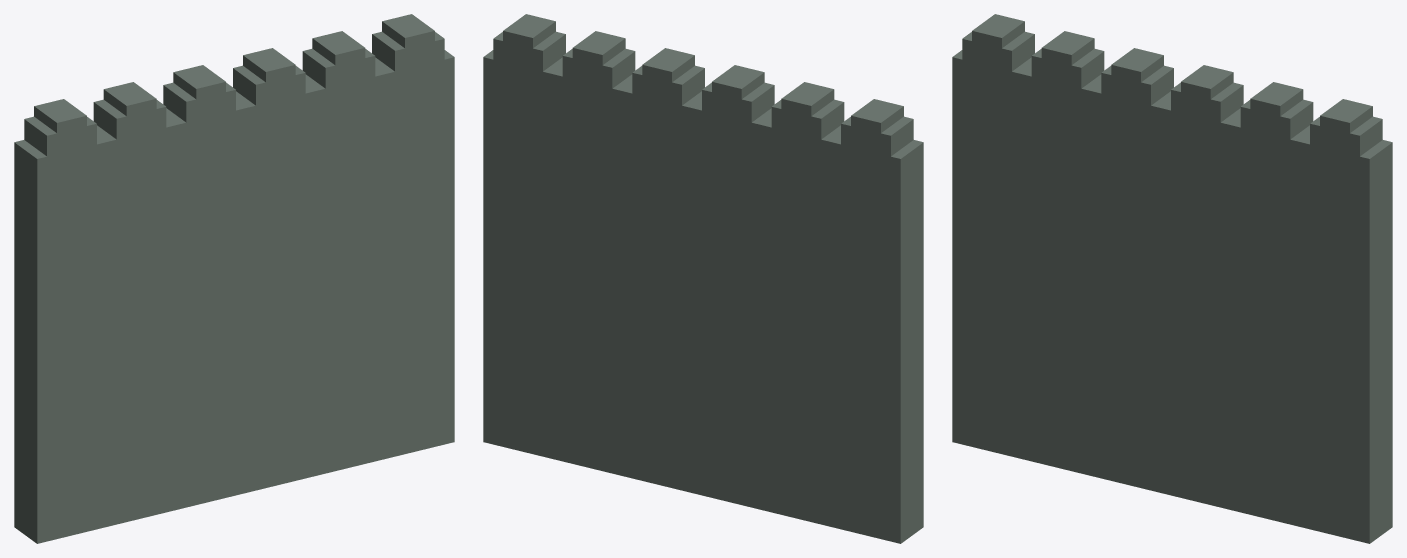
The model's file is castle_wall.glb.
3 views of the same model, side by side, from view 1: azimuth 30°, elevation 25°; view 2: azimuth 150°, elevation 25°; view 3: azimuth 330°, elevation 25° (orthographic).
Parts seen in each view (by area): view 1: Untitled; view 2: Untitled; view 3: Untitled.
Boxes of the visible parts, left/top/right/bottom form: Untitled: left=14, top=14, right=454, bottom=543; Untitled: left=483, top=14, right=923, bottom=543; Untitled: left=952, top=14, right=1392, bottom=543.
Bounding box in the file's own units: 4.2 × 4 × 0.4.
Materials: 1 (1 with a texture image).
